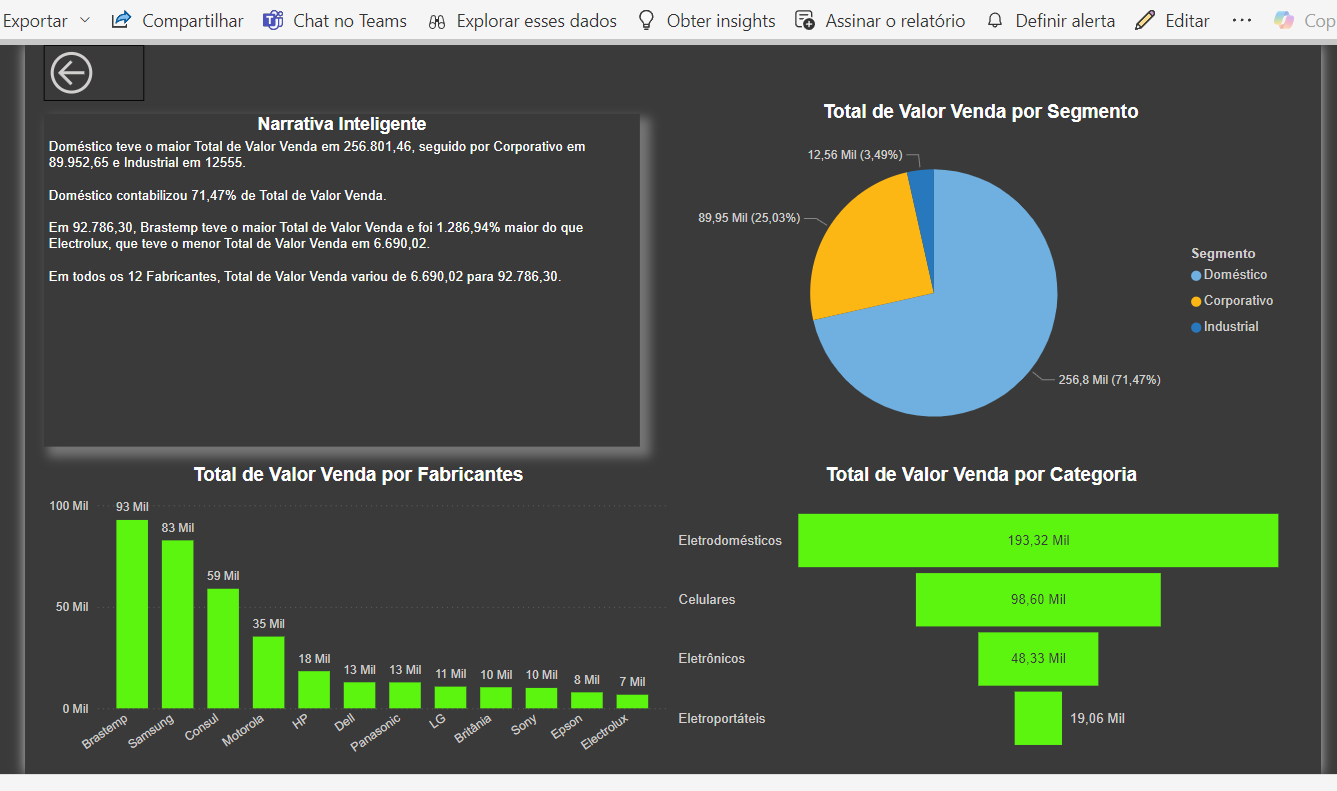

The dashboard page shown, as its layout file describes it:
{"tool":"powerbi","page":{"name":"Narrativa Inteligente","canvas":[1280,720],"ordinal":1},"visuals":[{"type":"pieChart","fields":{"Category":["Vendas.Segmento"],"Y":["Sum(Vendas.ValorVenda)"]},"box":[639.3,55.2,608.6,358.3],"z":0},{"type":"clusteredColumnChart","fields":{"Category":["Vendas.Fabricante"],"Y":["Sum(Vendas.ValorVenda)"]},"box":[18.4,413.5,620.9,306.8],"z":1000},{"type":"funnel","fields":{"Category":["Vendas.Categoria"],"Y":["Sum(Vendas.ValorVenda)"]},"box":[640.5,413.5,607.4,306.8],"z":2000},{"type":"textbox","title":"Narrativa Inteligente","box":[18.4,67.5,589,328.8],"z":3000},{"type":"actionButton","box":[18.4,0,99.4,55.2],"z":4000}]}

Visuals, with their boxes on the page's 1280x720 design canvas (x1, y1, x2, y2). These are canvas units, not pixel positions in the 1337x791 screenshot, which may show the page scaled, cropped or inside an application window:
pieChart - Vendas.Segmento x Sum(Vendas.ValorVenda): [639, 55, 1248, 414]
clusteredColumnChart - Vendas.Fabricante x Sum(Vendas.ValorVenda): [18, 414, 639, 720]
funnel - Vendas.Categoria x Sum(Vendas.ValorVenda): [640, 414, 1248, 720]
"Narrativa Inteligente" textbox: [18, 68, 607, 396]
actionButton: [18, 0, 118, 55]
